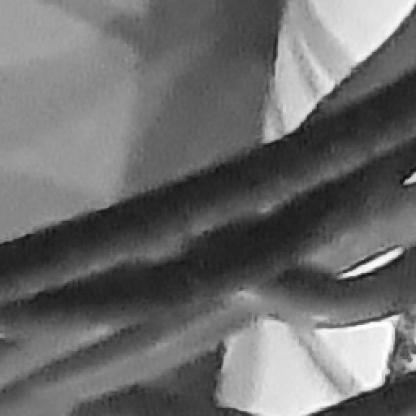wires: (1, 5, 414, 414)
